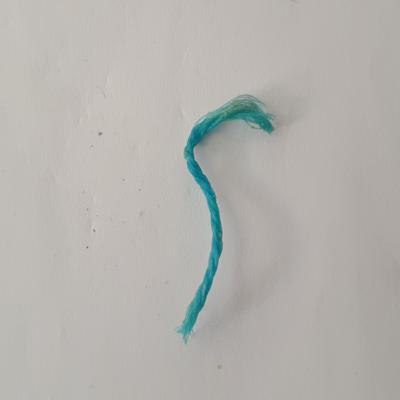thread: (168, 90, 281, 348)
